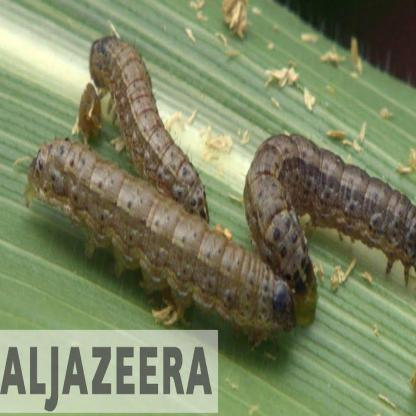armyworm: (20, 127, 297, 329), (242, 124, 416, 300), (86, 28, 213, 241)
